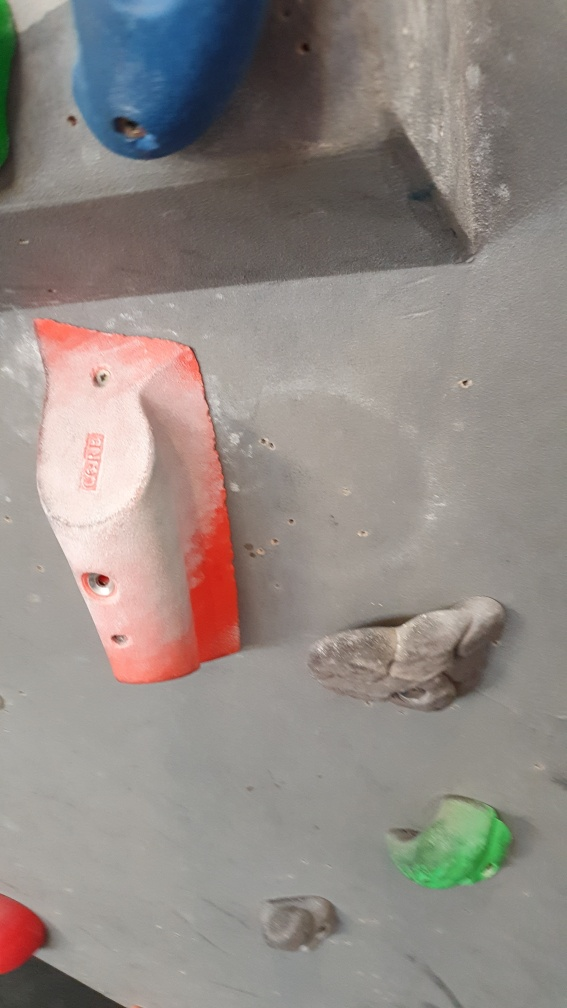Jug: (310, 585, 508, 717), (381, 788, 521, 895)
Pinch: (21, 316, 242, 684)
